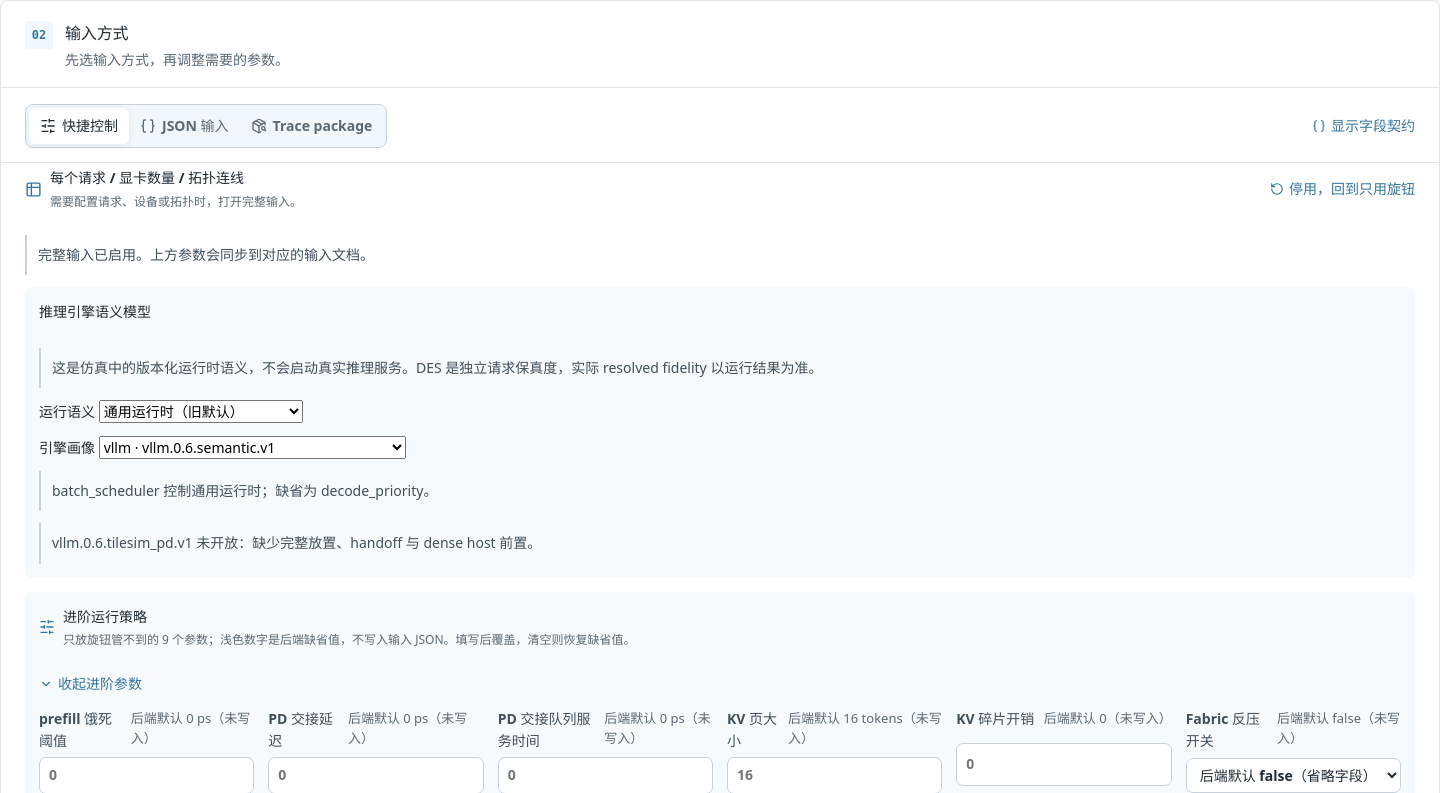
structured input panel › rejects an out-of-contract policy value instead of writing it
The width and height of the screenshot is (1440, 793).
Type "-1" into the number field labelled "KV 碎片开销 后端默认 0（未写入） ≥ 0" at (1064,764), box [956,742,1172,786]
(page scrolled)
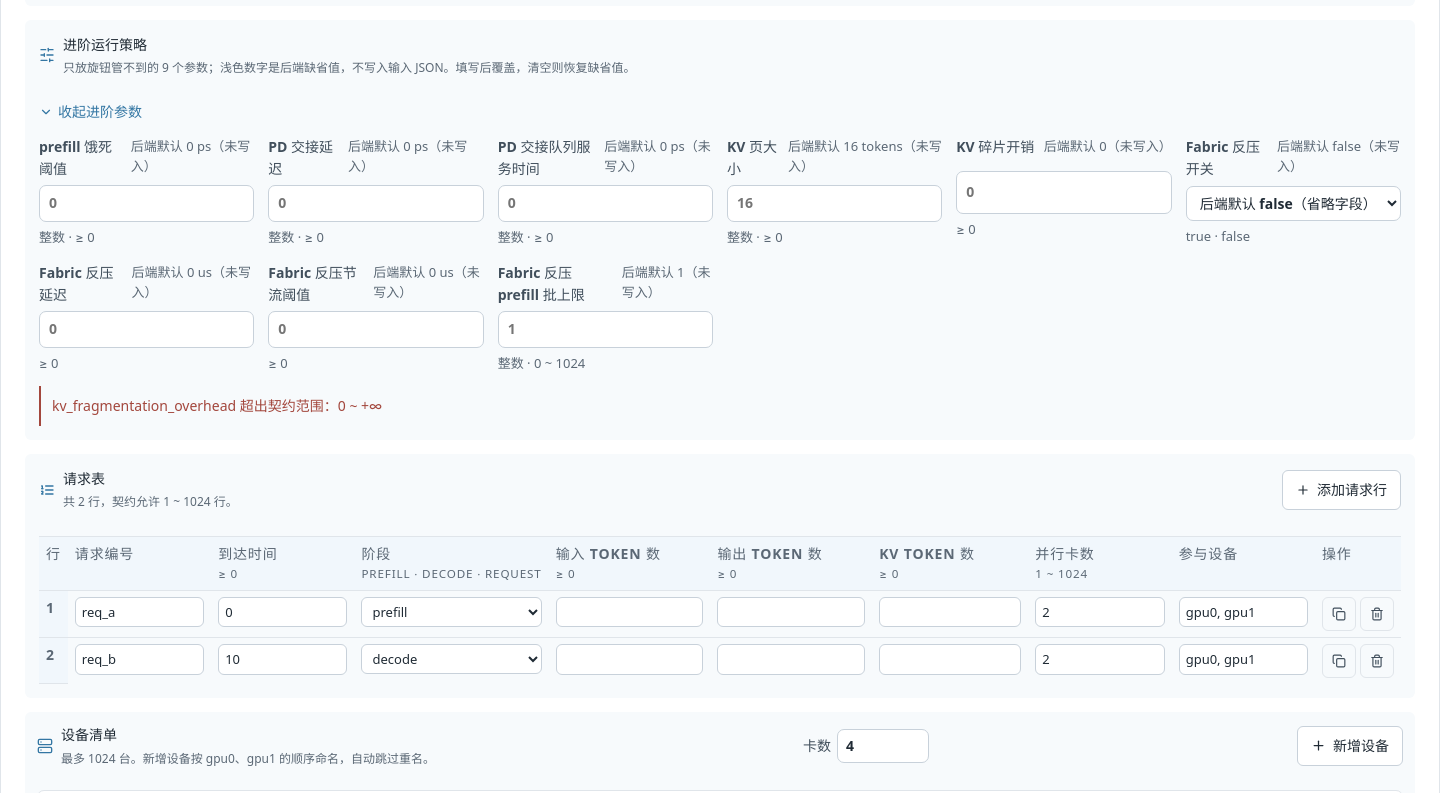
expect the message with class "structured-note--error" shows "超出契约范围": met, box [52,396,382,415]
expect the message with class "structured-note--error" shows "0 ~ +∞": met, box [52,396,382,415]
